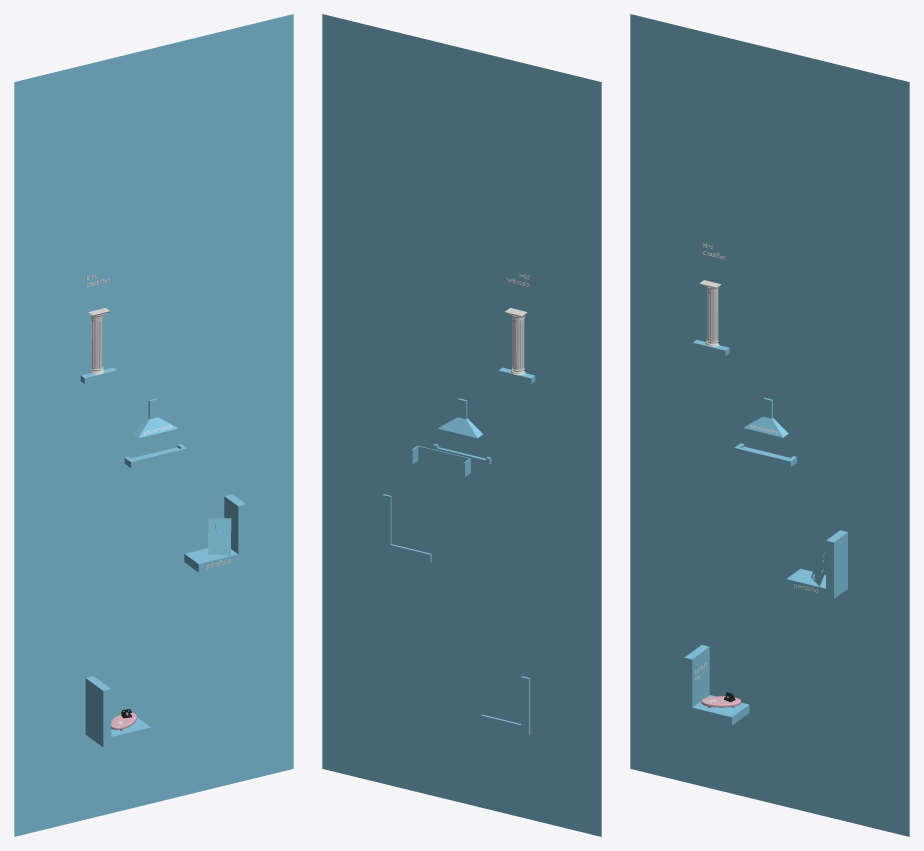
The model's file is simple.glb.
The picture shows the model from 3 angles, left to right: view 1: azimuth 30°, elevation 25°; view 2: azimuth 150°, elevation 25°; view 3: azimuth 330°, elevation 25°; orthographic projection.
Visible parts, largest first — view 1: background, contactholder, portfolioholder, ventholder, miniportfolio, column; view 2: background, ventholder, contactholder, portfolioholder, Glass, column; view 3: background, contactholder, portfolioholder, ventholder, column.
Part boxes in pixels (left/top/right/bottom): background: left=14, top=14, right=293, bottom=836; contactholder: left=85, top=676, right=150, bottom=747; portfolioholder: left=184, top=494, right=246, bottom=572; ventholder: left=124, top=398, right=187, bottom=468; miniportfolio: left=208, top=518, right=231, bottom=555; column: left=88, top=308, right=110, bottom=374; background: left=322, top=14, right=601, bottom=836; ventholder: left=433, top=398, right=491, bottom=464; contactholder: left=481, top=676, right=530, bottom=735; portfolioholder: left=382, top=494, right=431, bottom=562; Glass: left=411, top=445, right=470, bottom=477; column: left=505, top=308, right=527, bottom=375; background: left=630, top=14, right=909, bottom=836; contactholder: left=684, top=645, right=749, bottom=725; portfolioholder: left=786, top=530, right=847, bottom=598; ventholder: left=734, top=397, right=796, bottom=467; column: left=700, top=280, right=721, bottom=346.
Bounding box in the file's own units: 40.64 × 105 × 10.68.
